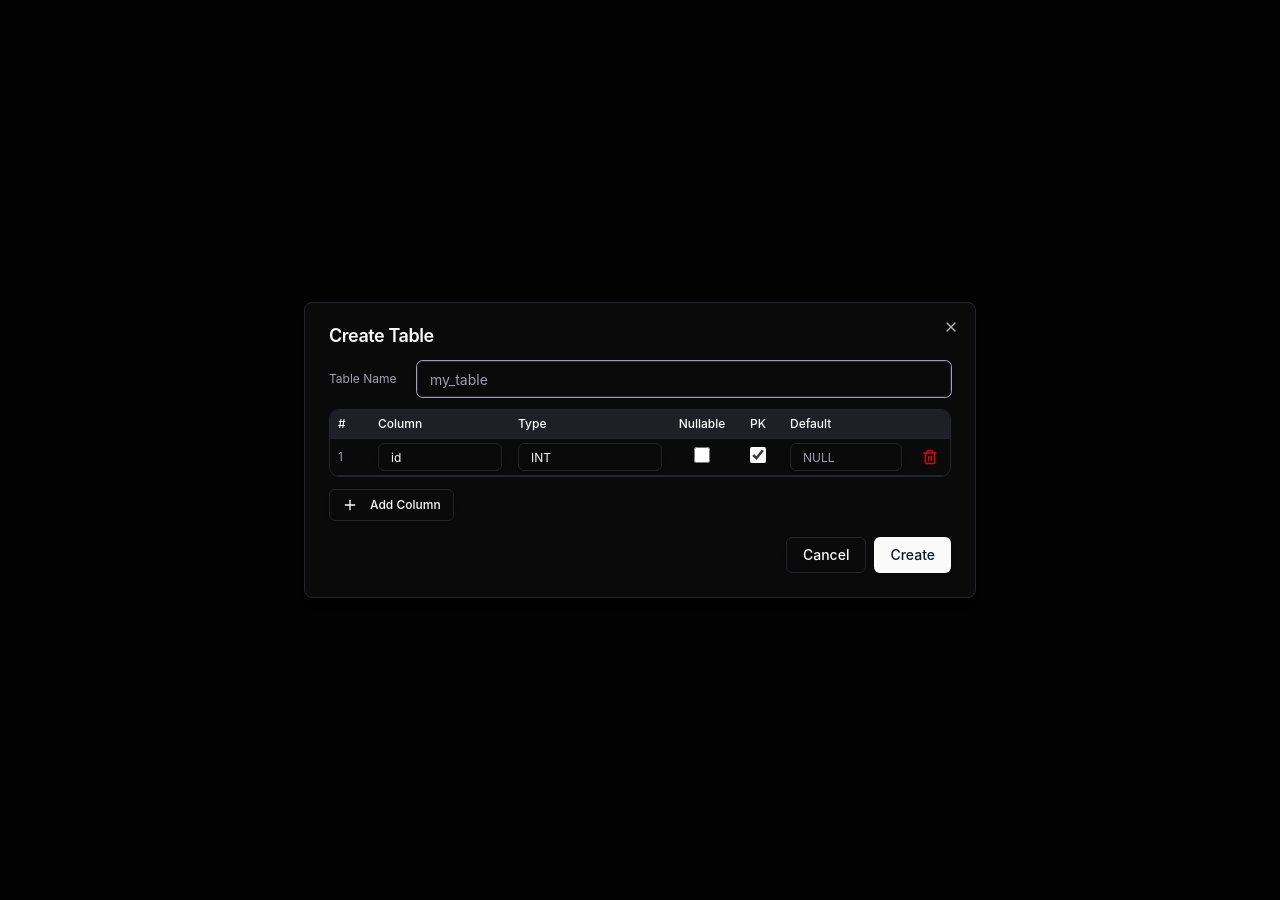
Scenario: shows error when createTable fails
The image size is (1280, 900).
Step 1. Type "users" into the field with placeholder "my_table" → [684, 379], box x1=417 y1=361 x2=951 y2=397
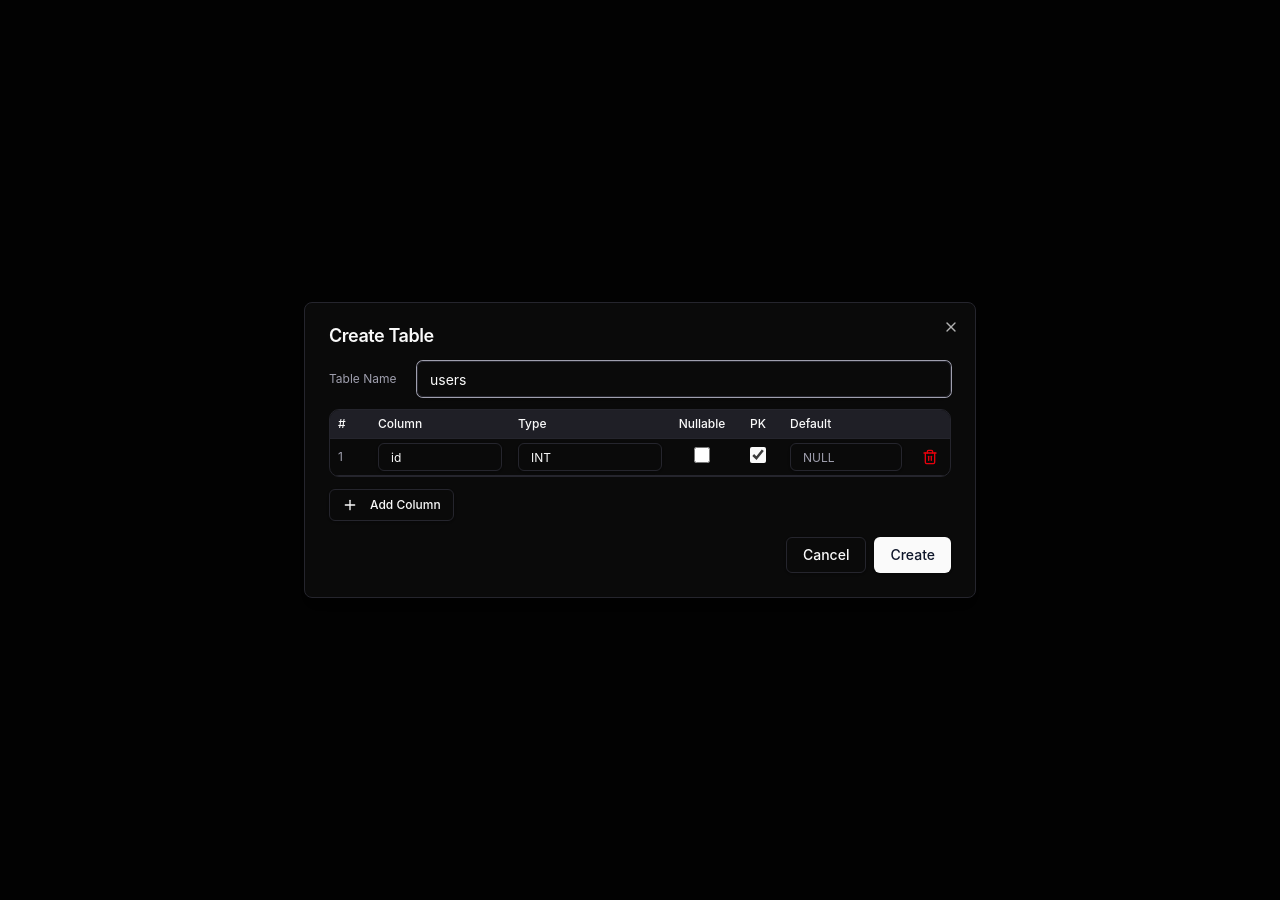
Step 2. Click the button "Create" → [913, 555], box x1=874 y1=537 x2=951 y2=573
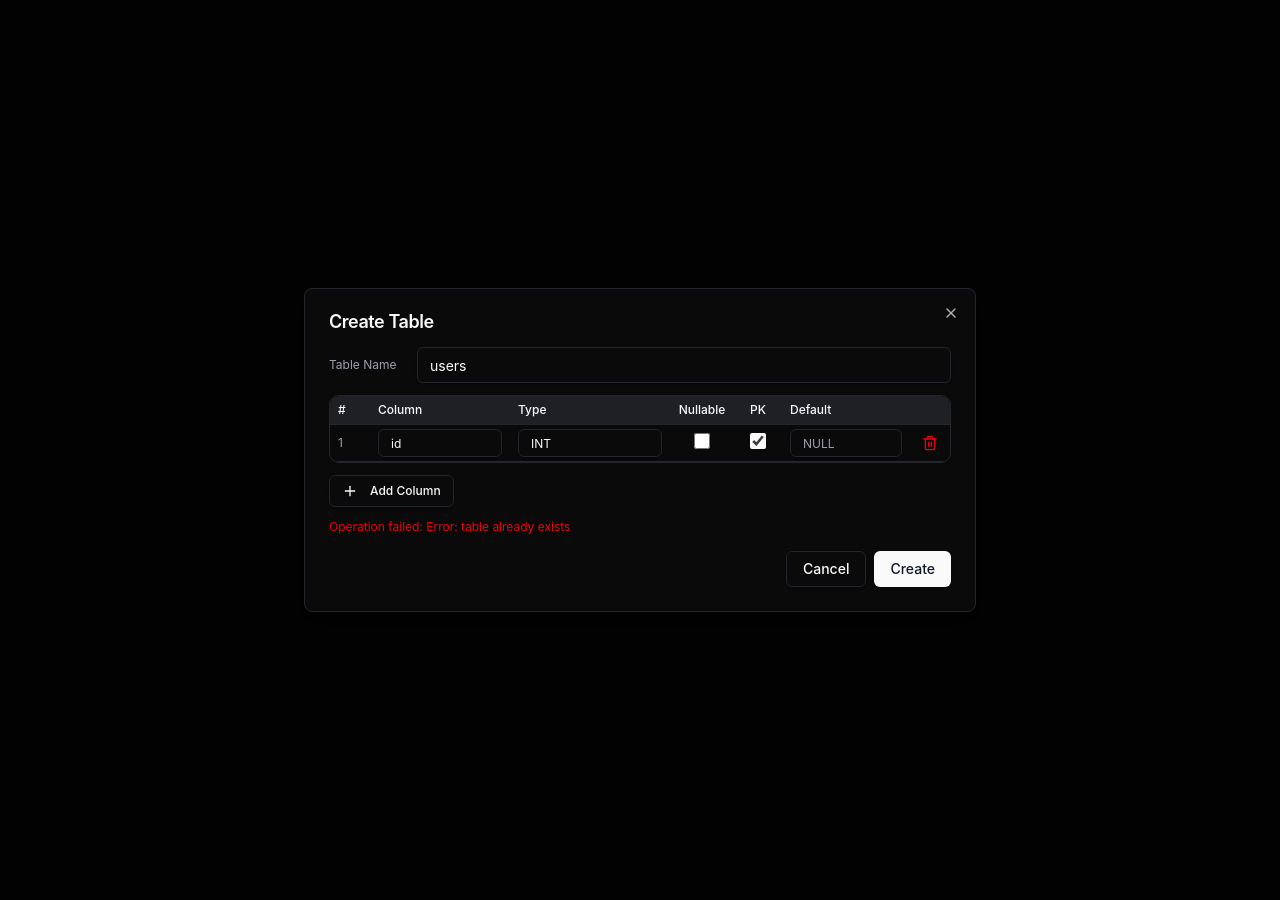
Result: the text "Operation failed: Error: table already exists" is shown at x1=329 y1=519 x2=570 y2=534
